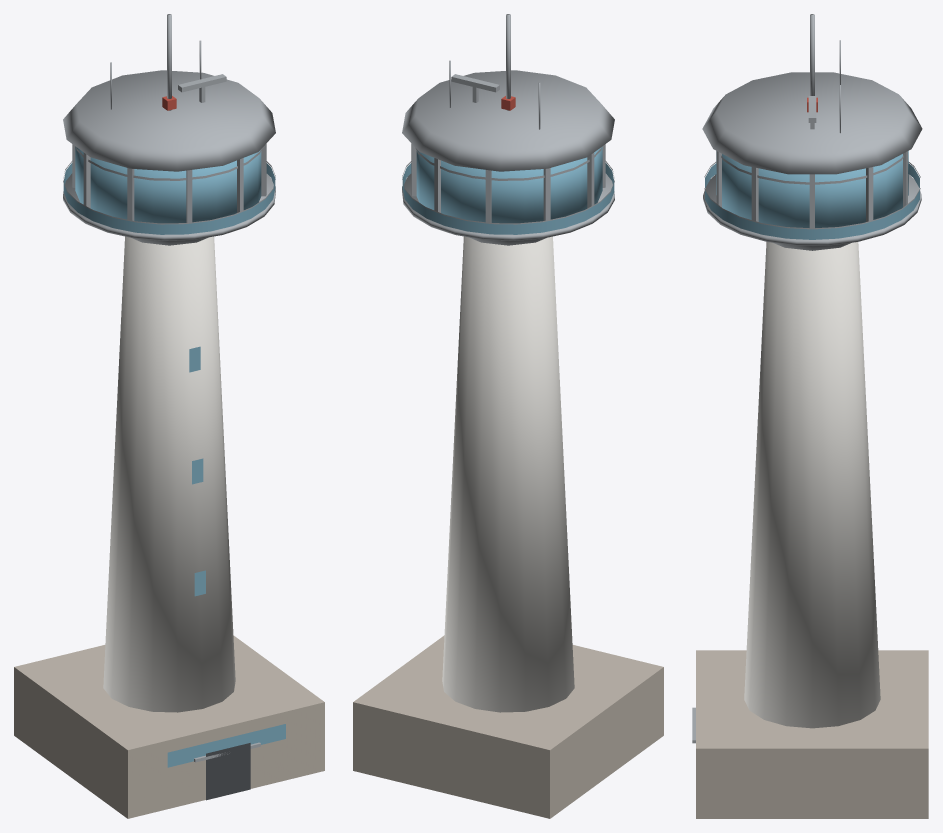
File: atc_tower.glb
3 views of the same model, side by side, from view 1: azimuth 30°, elevation 25°; view 2: azimuth 150°, elevation 25°; view 3: azimuth 270°, elevation 25° (orthographic). The views are drawn at different scales.
Parts seen in each view (by area): view 1: atc_shaft, Merged_FacadeAccent, Merged_PropsMetal, Merged_FacadeGlass, Merged_WindowFrame; view 2: atc_shaft, Merged_FacadeAccent, Merged_PropsMetal, Merged_FacadeGlass; view 3: atc_shaft, Merged_FacadeAccent, Merged_PropsMetal, Merged_FacadeGlass.
Boxes of the visible parts, box(x1,y1,x2,y2) form: atc_shaft: box(103, 236, 235, 712); Merged_FacadeAccent: box(14, 635, 324, 818); Merged_PropsMetal: box(63, 14, 275, 762); Merged_FacadeGlass: box(63, 146, 285, 767); Merged_WindowFrame: box(206, 743, 250, 800); atc_shaft: box(442, 236, 574, 712); Merged_FacadeAccent: box(353, 635, 663, 818); Merged_PropsMetal: box(402, 14, 614, 245); Merged_FacadeGlass: box(402, 146, 614, 234); atc_shaft: box(744, 242, 880, 728); Merged_FacadeAccent: box(696, 650, 928, 818); Merged_PropsMetal: box(692, 14, 922, 743); Merged_FacadeGlass: box(705, 151, 919, 239).
Bounding box in the file's own units: 15 × 53.7 × 15.25.
